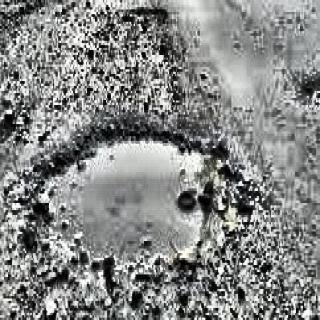pothole: (12, 121, 262, 301), (116, 5, 169, 31), (296, 67, 320, 112)
